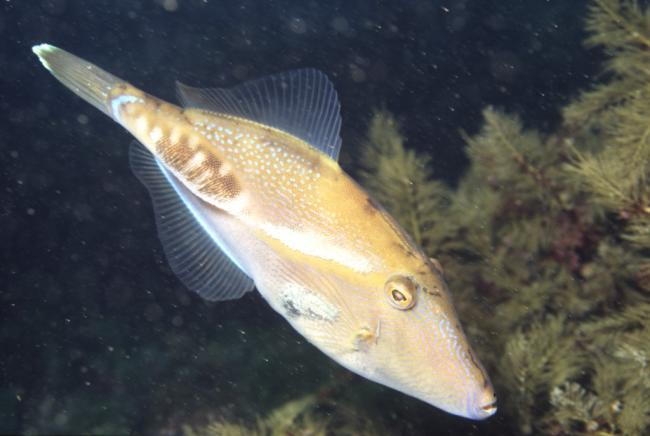fish: (31, 43, 499, 419)
